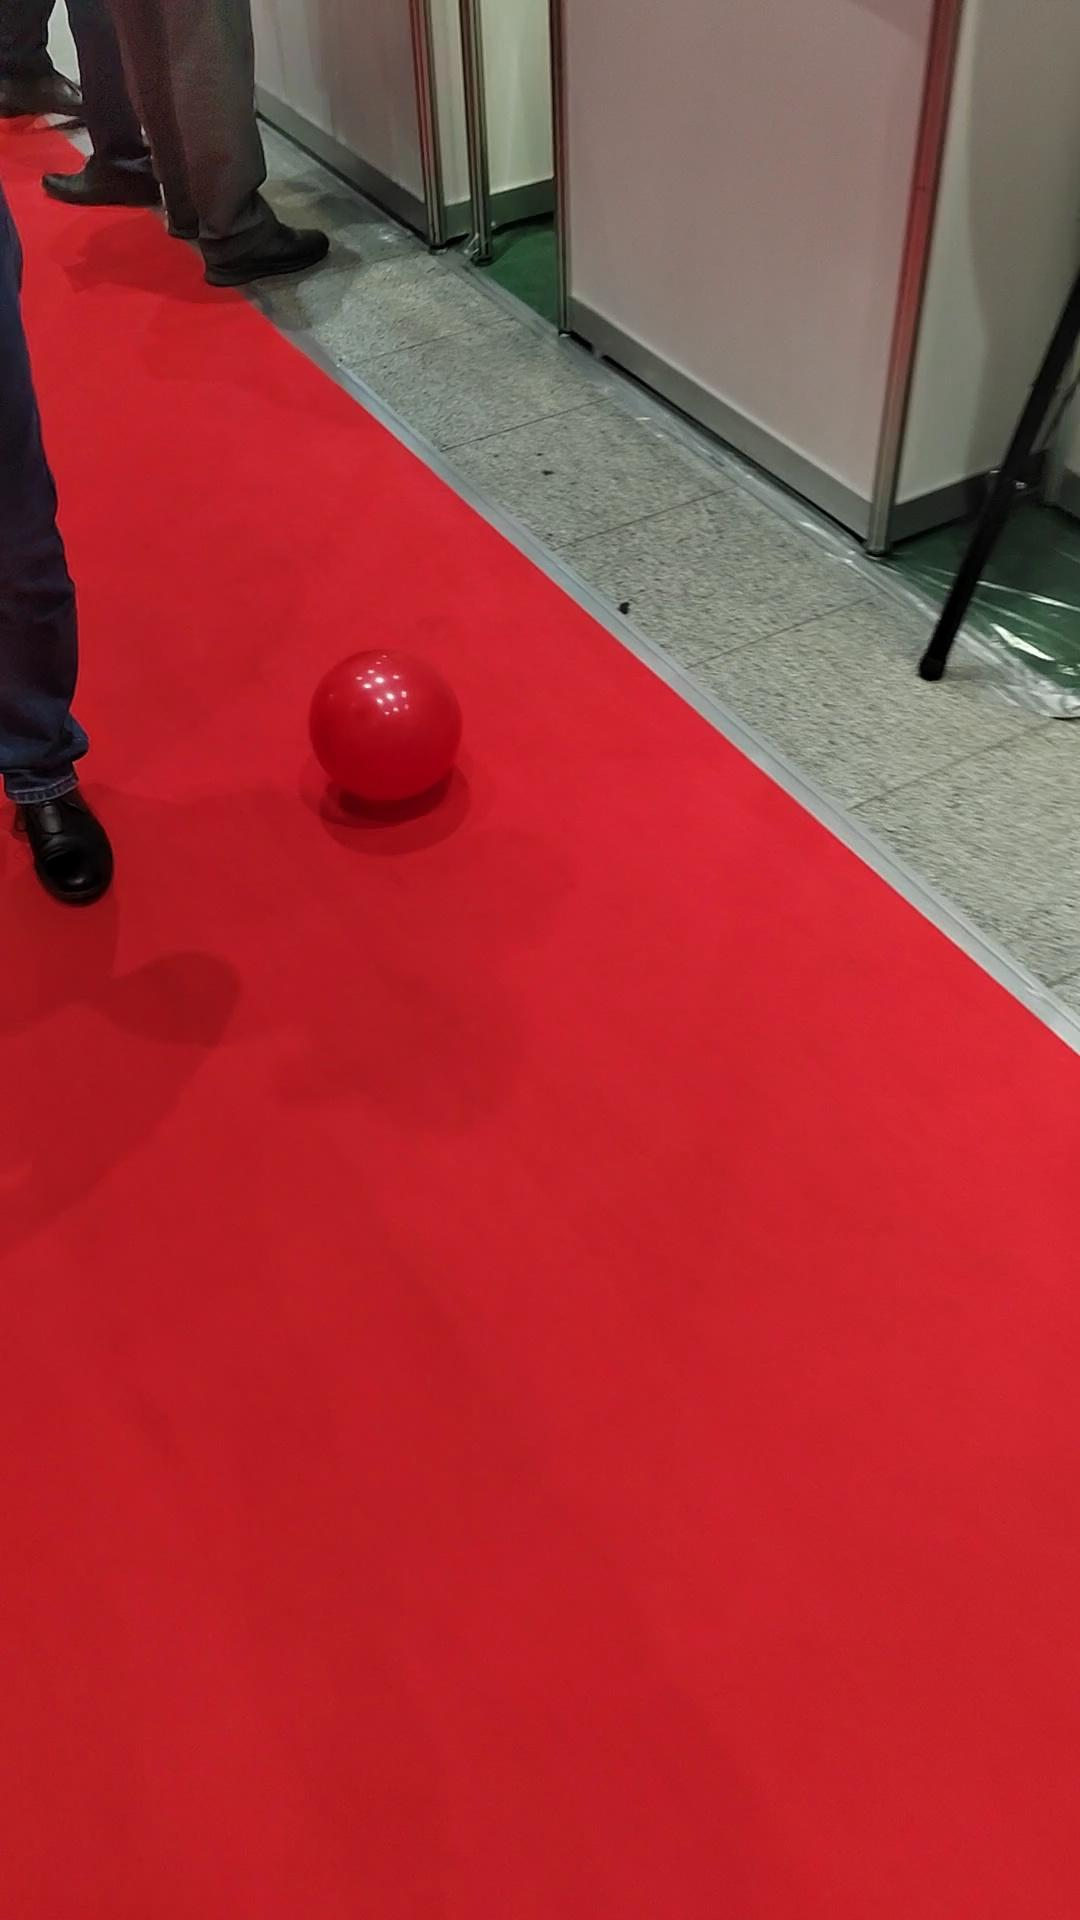red: (307, 649, 462, 804)
